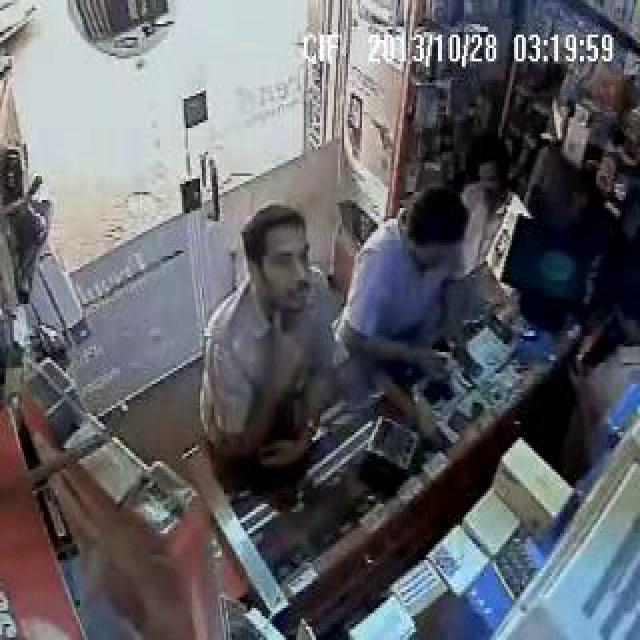shoplifting: (205, 44, 409, 591)
